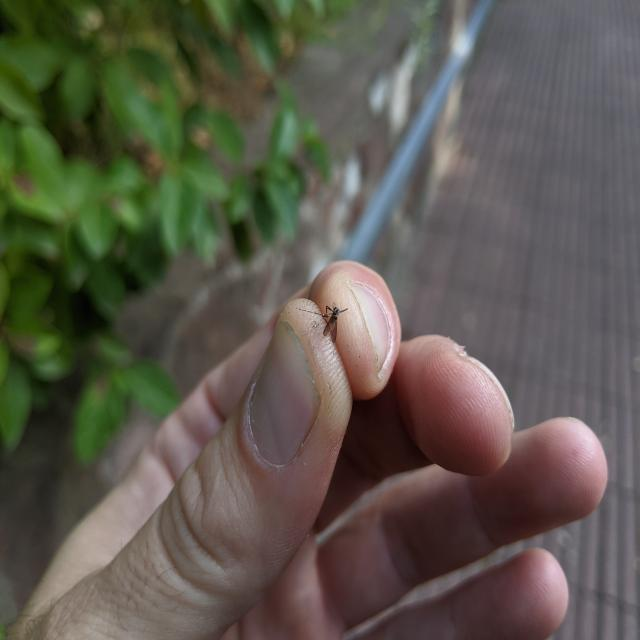albopictus: (299, 291, 354, 350)
